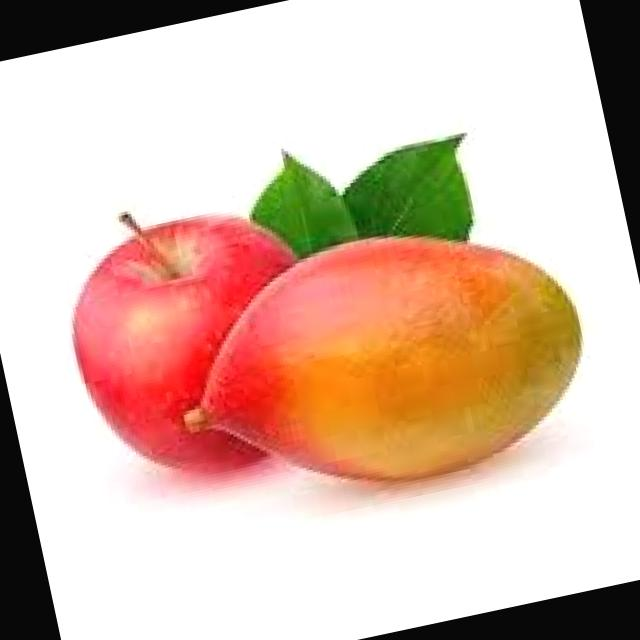Apple: (55, 195, 340, 495)
Mango: (162, 200, 602, 518)
